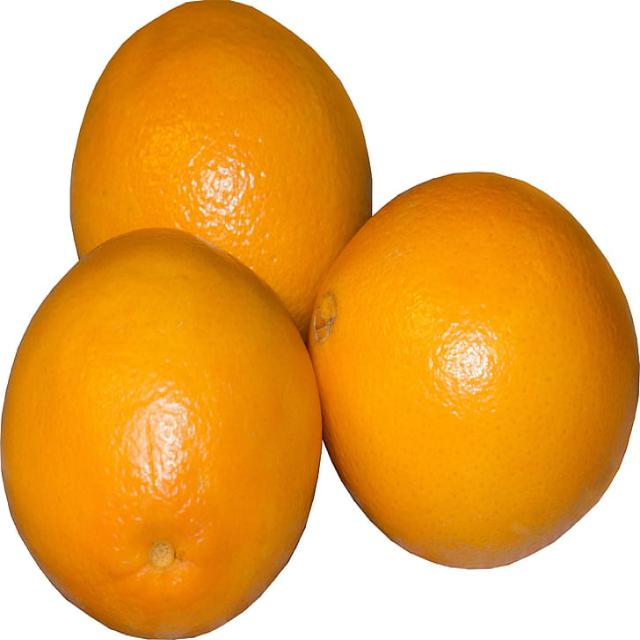orange: (321, 168, 640, 572), (2, 235, 329, 604), (73, 2, 348, 299)
